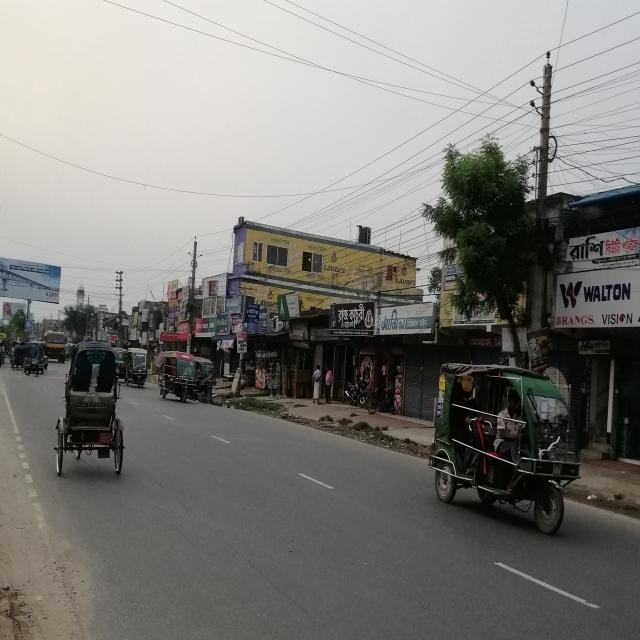Easybike: (428, 361, 589, 539)
Rickshaw: (52, 338, 127, 487)
